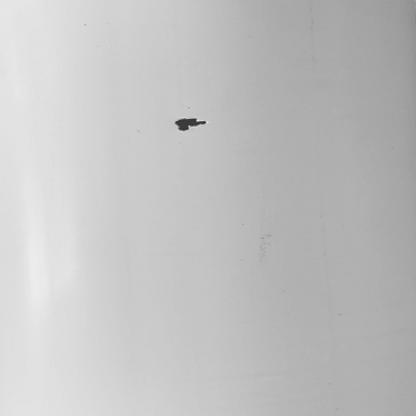kongdong: (167, 108, 213, 136)
